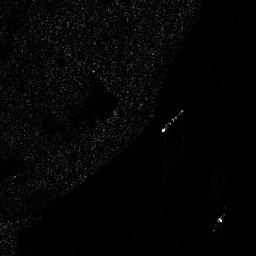ship: (161, 107, 184, 133)
